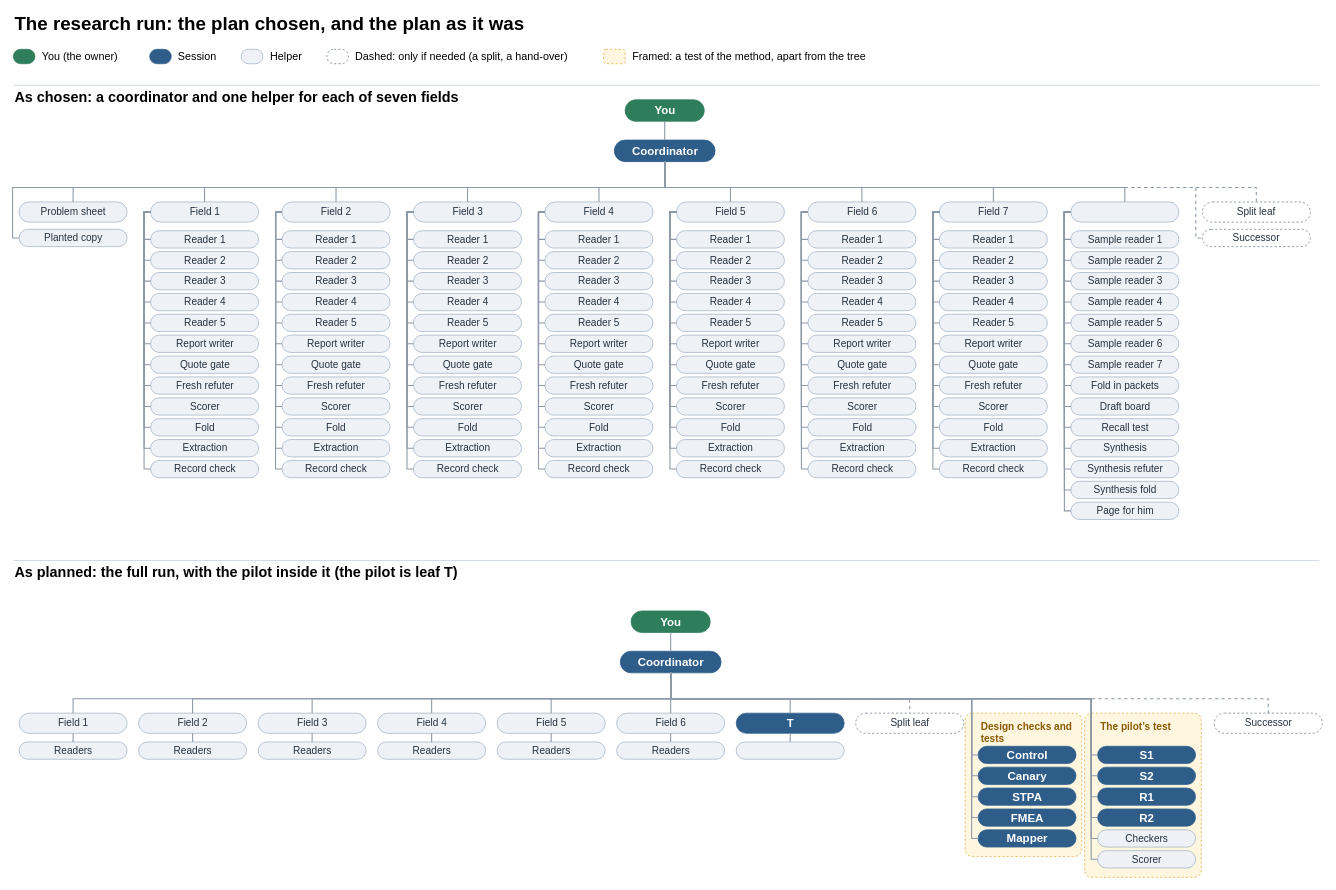
The diagram is 1336 pixels wide and 890 high, and some of its shapes have lost their labels. Each missing label, with the centre of its shape:
Closing helper: (x=1124, y=211)
T’s readers: (x=789, y=750)
